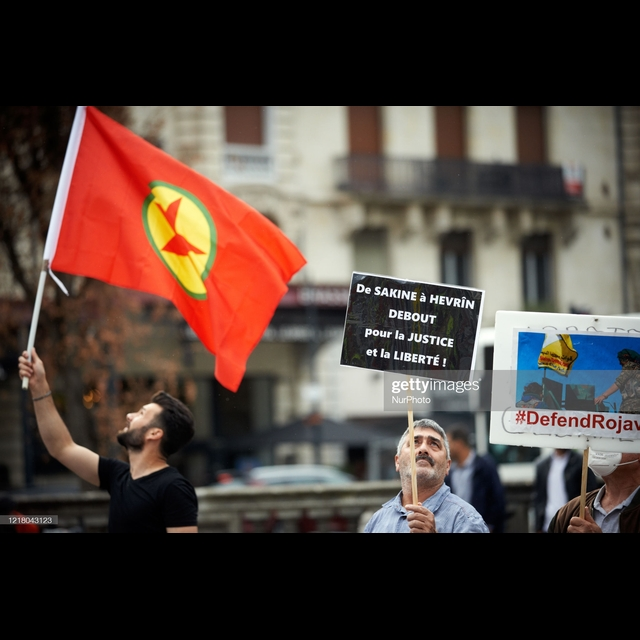PKK: (135, 175, 226, 304)
